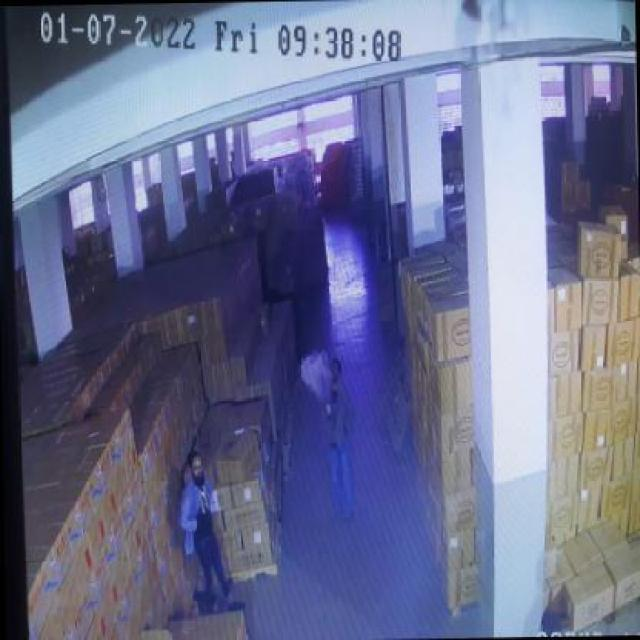fire: (294, 346, 330, 406)
